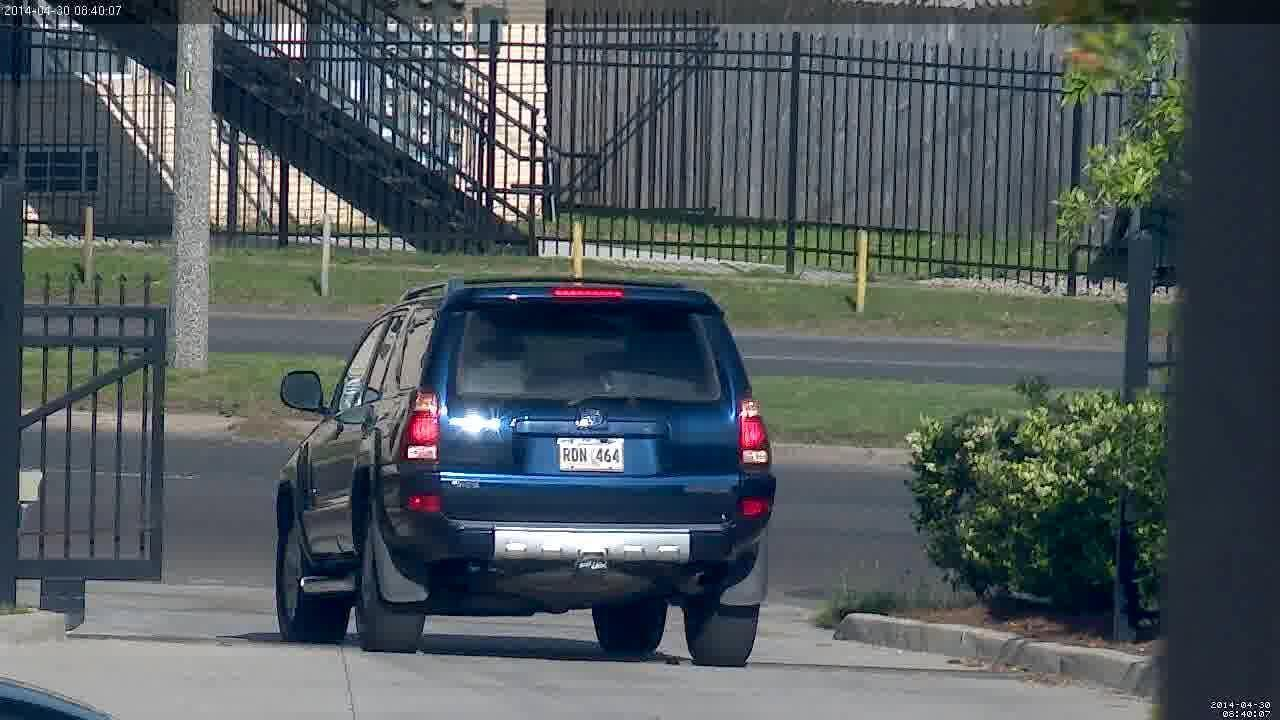placa de veiculo: (538, 425, 645, 479)
